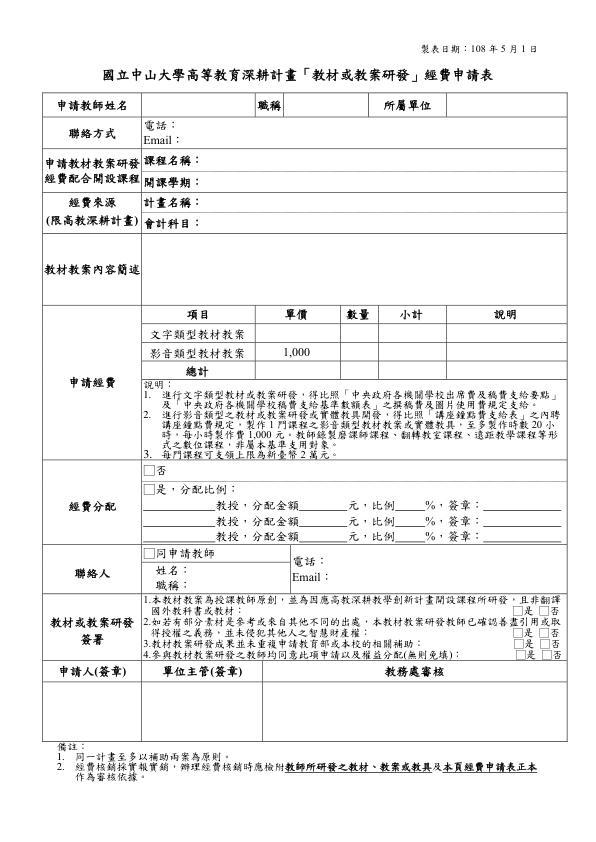table: (39, 89, 577, 744)
text: (55, 751, 541, 787), (101, 65, 495, 83), (418, 41, 544, 59), (54, 741, 88, 753)
